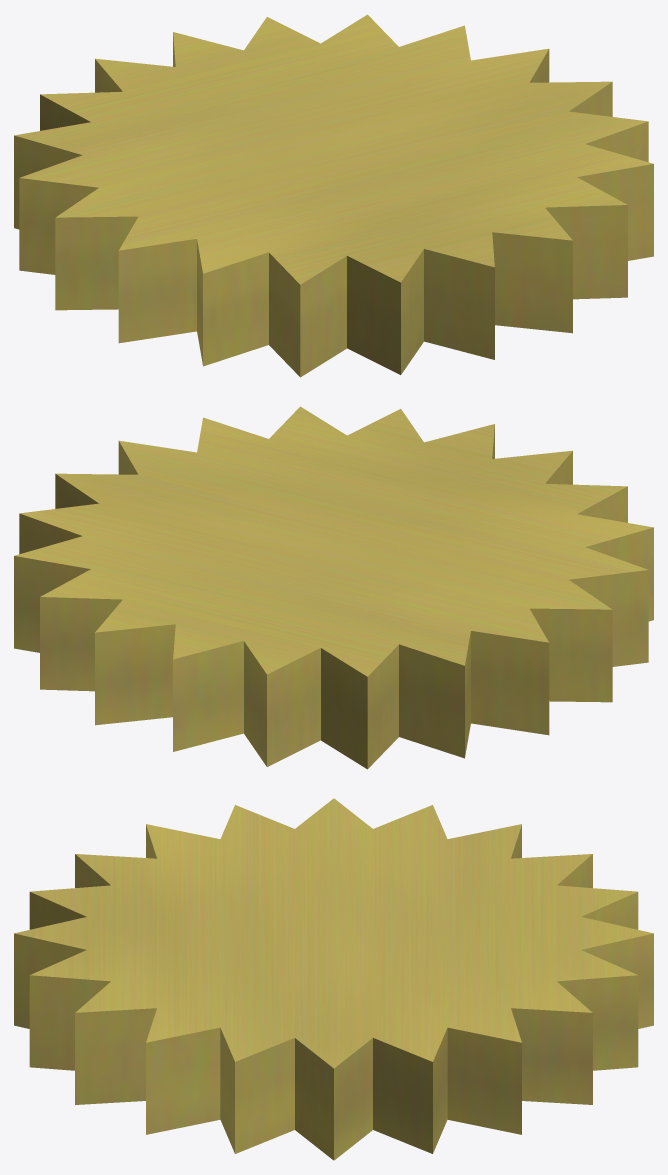
File: ClockStraight4Spoke020.fbx
The picture shows the model from 3 angles, top to bottom: view 1: azimuth 30°, elevation 25°; view 2: azimuth 150°, elevation 25°; view 3: azimuth 270°, elevation 25°; orthographic projection.
Parts seen in each view (by area): view 1: ClockStraight4Spoke020; view 2: ClockStraight4Spoke020; view 3: ClockStraight4Spoke020.
Part boxes in pixels (<box>): ClockStraight4Spoke020: <box>14,14,653,377</box>; ClockStraight4Spoke020: <box>14,406,653,769</box>; ClockStraight4Spoke020: <box>14,798,653,1160</box>.
Bounding box in the file's own units: 124 × 19.69 × 124.
